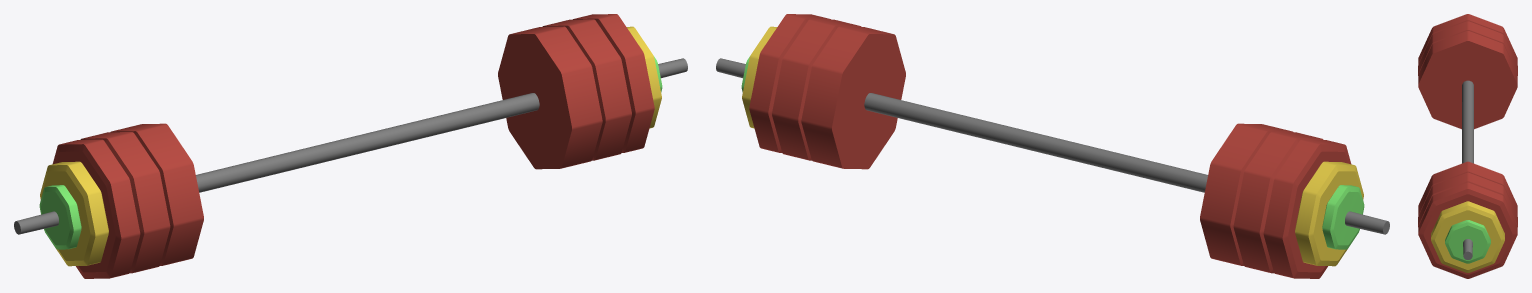
Rendered from bar.fbx.
The picture shows the model from 3 angles, left to right: view 1: azimuth 30°, elevation 25°; view 2: azimuth 150°, elevation 25°; view 3: azimuth 270°, elevation 25°; orthographic projection. The views are drawn at different scales.
Parts seen in each view (by area): view 1: bar; view 2: bar; view 3: bar.
Boxes of the visible parts, x1=… form: bar: x1=14, y1=14, x2=687, y2=278; bar: x1=716, y1=14, x2=1389, y2=278; bar: x1=1418, y1=14, x2=1517, y2=278.
Bounding box in the file's own units: 7.75 × 1.49 × 1.49.
